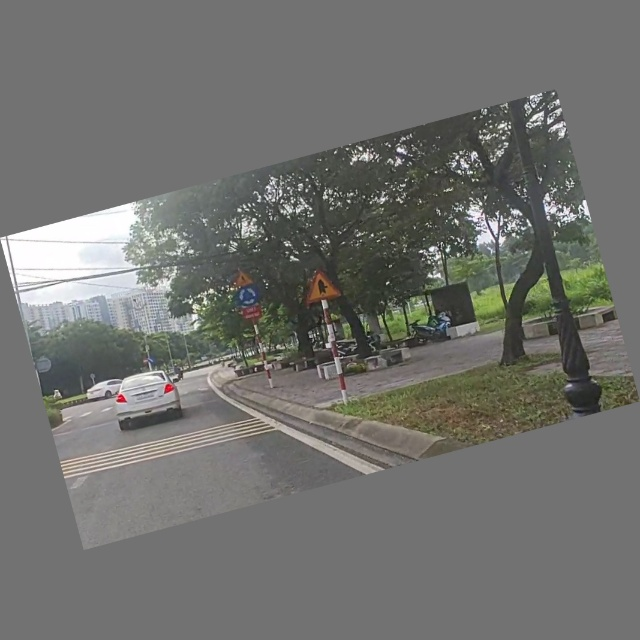P.102: (141, 358, 149, 365)
R.302a: (148, 357, 156, 365)
R.303: (236, 285, 261, 309)
W.207: (298, 266, 343, 308)
W.224: (232, 268, 255, 289)
